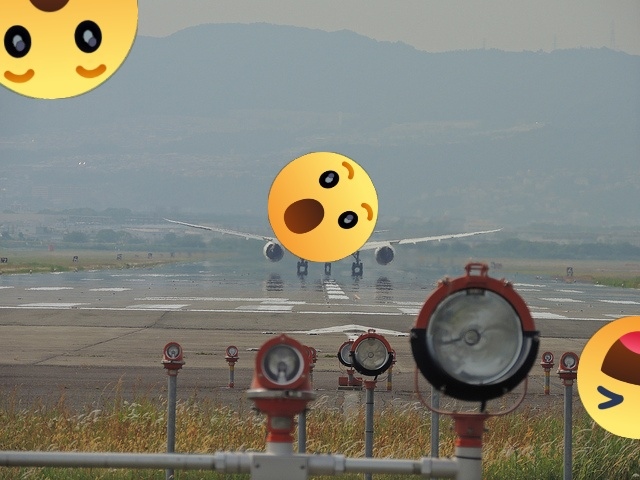haha: (577, 316, 640, 439)
wow: (0, 0, 138, 99), (268, 152, 378, 262)
